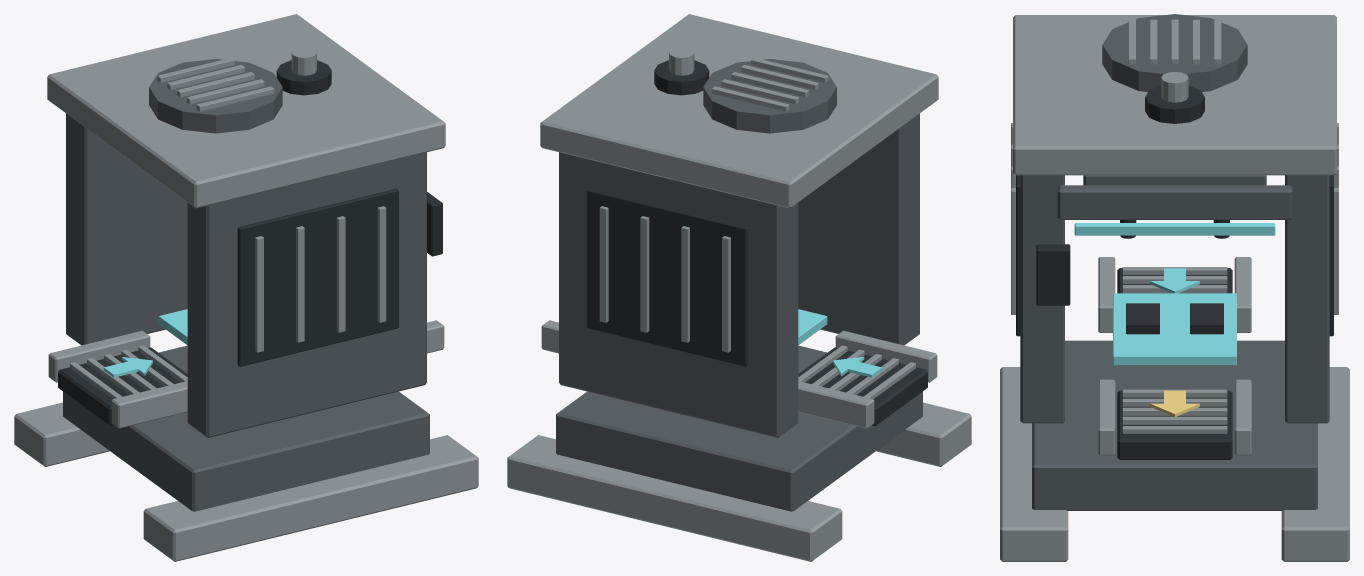
The model's file is electronics-fabricator-mk1.glb.
The picture shows the model from 3 angles, left to right: view 1: azimuth 30°, elevation 25°; view 2: azimuth 150°, elevation 25°; view 3: azimuth 270°, elevation 25°; orthographic projection. The views are drawn at different scales.
Parts seen in each view (by area): view 1: electronics-fabricator / Graphite enamel, electronics-fabricator / Machined steel, electronics-fabricator / Recesses and belt, electronics-fabricator / Cyan inlet markings; view 2: electronics-fabricator / Graphite enamel, electronics-fabricator / Machined steel, electronics-fabricator / Recesses and belt, electronics-fabricator / Cyan inlet markings; view 3: electronics-fabricator / Machined steel, electronics-fabricator / Graphite enamel, electronics-fabricator / Recesses and belt, electronics-fabricator / Cyan inlet markings, electronics-fabricator / Gold outlet markings.
Boxes of the visible parts, x1,y1,x2,y2 form: electronics-fabricator / Graphite enamel: (63, 59, 429, 511); electronics-fabricator / Machined steel: (14, 14, 478, 561); electronics-fabricator / Recesses and belt: (58, 60, 442, 425); electronics-fabricator / Cyan inlet markings: (103, 309, 187, 377); electronics-fabricator / Graphite enamel: (556, 59, 922, 511); electronics-fabricator / Machined steel: (507, 14, 971, 561); electronics-fabricator / Recesses and belt: (587, 60, 927, 425); electronics-fabricator / Cyan inlet markings: (798, 309, 882, 377); electronics-fabricator / Machined steel: (1000, 15, 1349, 561); electronics-fabricator / Graphite enamel: (1020, 14, 1329, 510); electronics-fabricator / Recesses and belt: (1016, 86, 1333, 459); electronics-fabricator / Cyan inlet markings: (1074, 223, 1275, 365); electronics-fabricator / Gold outlet markings: (1150, 390, 1199, 416).
Bounding box in the file's own units: 0.96 × 1.12 × 0.82.
